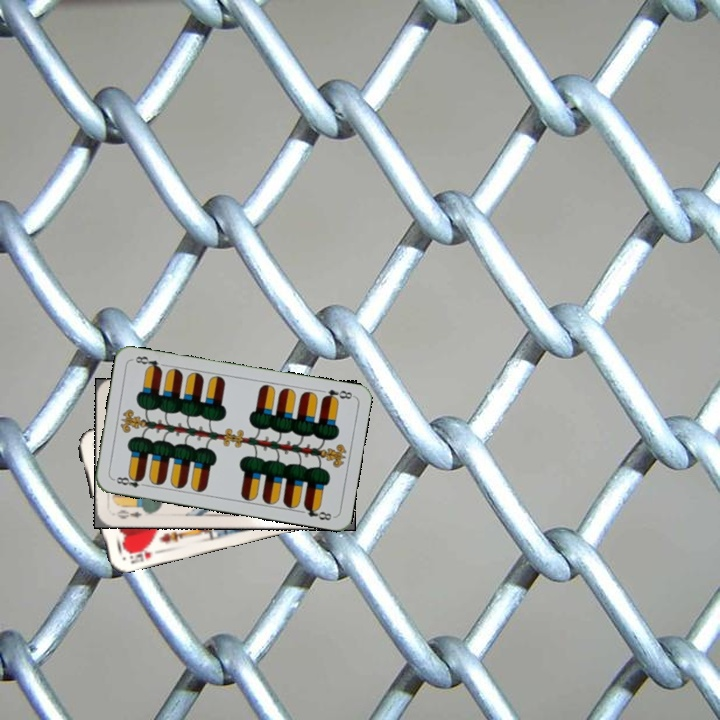E8: (109, 471, 150, 490), (318, 385, 356, 404)
EO: (113, 506, 145, 521)
HK: (122, 543, 154, 566)
